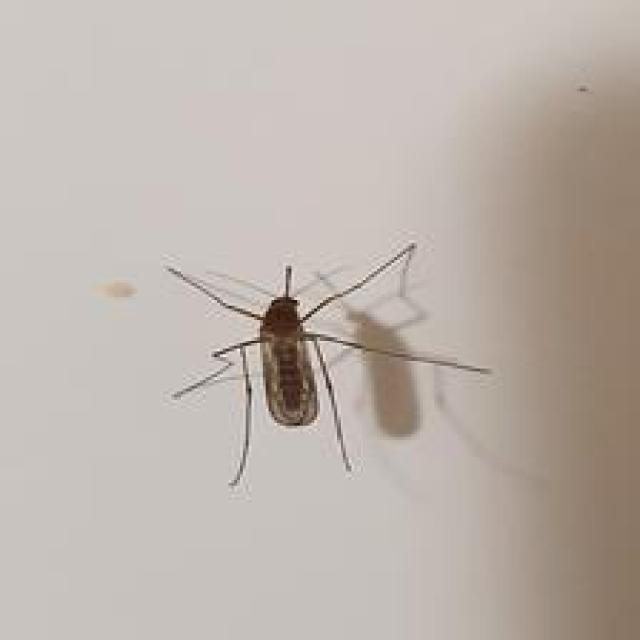Culex: (163, 239, 494, 487)
